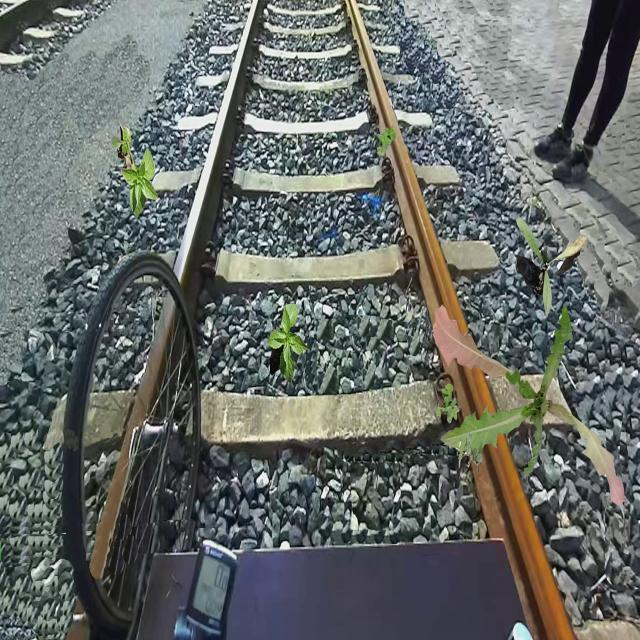Plant: (432, 304, 624, 506), (516, 217, 588, 316), (111, 123, 159, 218), (268, 304, 310, 384), (455, 431, 482, 472), (436, 383, 460, 424), (377, 124, 396, 156)
